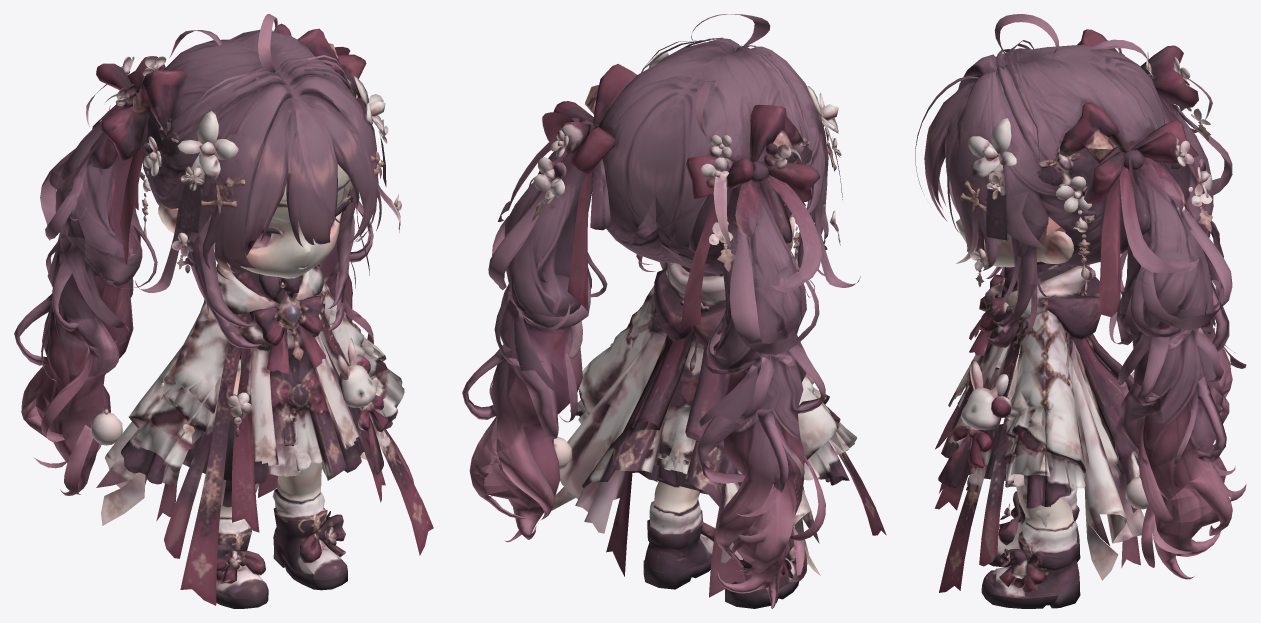
File: source.glb
3 renders of one model, left to right at view 1: azimuth 30°, elevation 25°; view 2: azimuth 150°, elevation 25°; view 3: azimuth 270°, elevation 25°, orthographic.
Parts seen in each view (by area): view 1: tripo_part_2, tripo_part_0, tripo_part_10, tripo_part_78, tripo_part_17, tripo_part_6, tripo_part_3, tripo_part_9, tripo_part_19, tripo_part_97, tripo_part_29, tripo_part_15 (+31 smaller); view 2: tripo_part_2, tripo_part_0, tripo_part_1, tripo_part_11, tripo_part_9, tripo_part_40, tripo_part_6, tripo_part_10, tripo_part_15, tripo_part_37, tripo_part_119, tripo_part_19 (+24 smaller); view 3: tripo_part_2, tripo_part_1, tripo_part_6, tripo_part_11, tripo_part_9, tripo_part_0, tripo_part_15, tripo_part_40, tripo_part_162, tripo_part_4, tripo_part_123, tripo_part_3 (+29 smaller).
Boxes of the visible parts, left/top/right/bottom form: tripo_part_2: left=135, top=29, right=400, bottom=331; tripo_part_0: left=14, top=105, right=157, bottom=495; tripo_part_10: left=121, top=300, right=251, bottom=558; tripo_part_78: left=180, top=344, right=259, bottom=605; tripo_part_17: left=250, top=346, right=355, bottom=480; tripo_part_6: left=316, top=280, right=433, bottom=555; tripo_part_3: left=158, top=164, right=351, bottom=280; tripo_part_9: left=272, top=367, right=340, bottom=574; tripo_part_19: left=96, top=422, right=177, bottom=525; tripo_part_97: left=249, top=347, right=278, bottom=465; tripo_part_29: left=184, top=218, right=261, bottom=348; tripo_part_15: left=204, top=262, right=324, bottom=318; tripo_part_2: left=592, top=38, right=860, bottom=287; tripo_part_0: left=697, top=182, right=825, bottom=608; tripo_part_1: left=462, top=136, right=607, bottom=542; tripo_part_11: left=551, top=331, right=665, bottom=576; tripo_part_9: left=643, top=481, right=712, bottom=589; tripo_part_40: left=582, top=331, right=690, bottom=488; tripo_part_6: left=570, top=285, right=666, bottom=481; tripo_part_10: left=798, top=363, right=868, bottom=519; tripo_part_15: left=654, top=263, right=726, bottom=351; tripo_part_37: left=685, top=349, right=739, bottom=509; tripo_part_119: left=766, top=175, right=821, bottom=292; tripo_part_19: left=709, top=468, right=820, bottom=597; tripo_part_2: left=924, top=44, right=1167, bottom=347; tripo_part_1: left=1109, top=161, right=1246, bottom=579; tripo_part_6: left=934, top=310, right=1085, bottom=592; tripo_part_11: left=1070, top=157, right=1162, bottom=580; tripo_part_9: left=1006, top=485, right=1080, bottom=608; tripo_part_0: left=1120, top=98, right=1246, bottom=448; tripo_part_15: left=999, top=264, right=1100, bottom=339; tripo_part_40: left=1072, top=337, right=1139, bottom=512; tripo_part_162: left=1099, top=174, right=1120, bottom=317; tripo_part_4: left=961, top=215, right=1008, bottom=430; tripo_part_123: left=1119, top=166, right=1199, bottom=273; tripo_part_3: left=956, top=217, right=1073, bottom=267.
Bounding box in the file's own units: 0.615 × 1 × 0.5379.
Materials: 1 (1 with a texture image).
